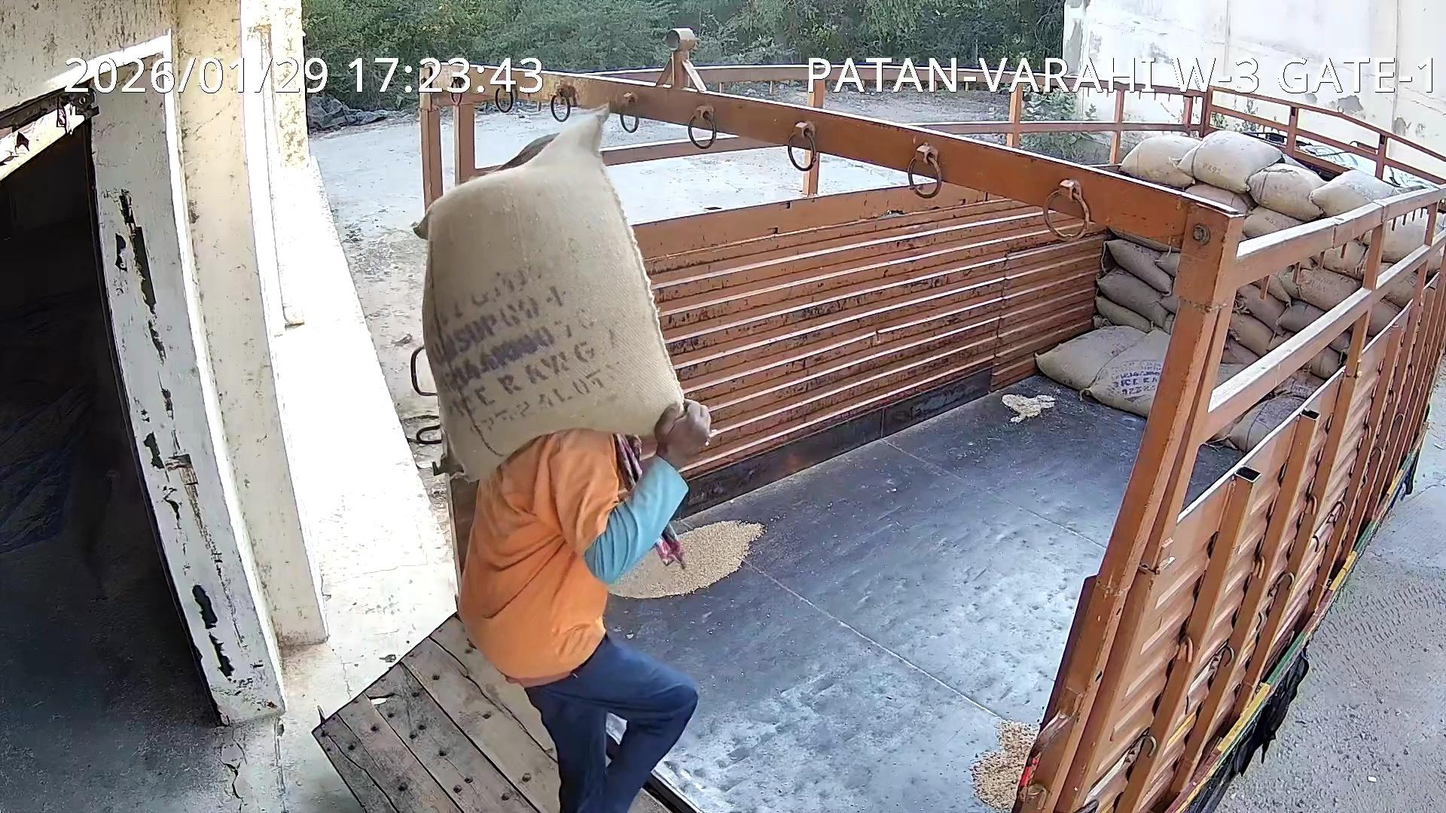Sack: (414, 111, 682, 478)
